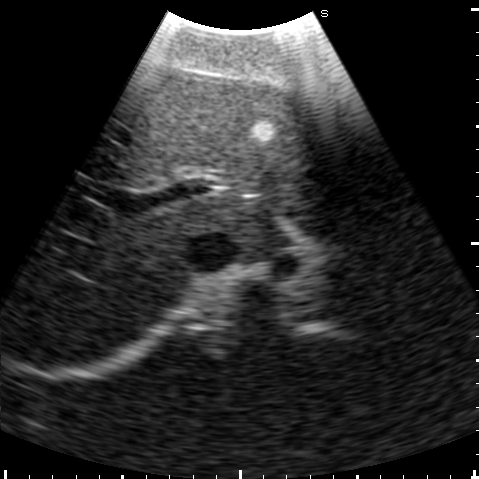IVC: (182, 233, 235, 272)
S1: (180, 198, 288, 261)
S2: (267, 189, 345, 237)
S3: (207, 90, 310, 201)
S4: (82, 66, 278, 187)
Tumor: (248, 122, 276, 143)
